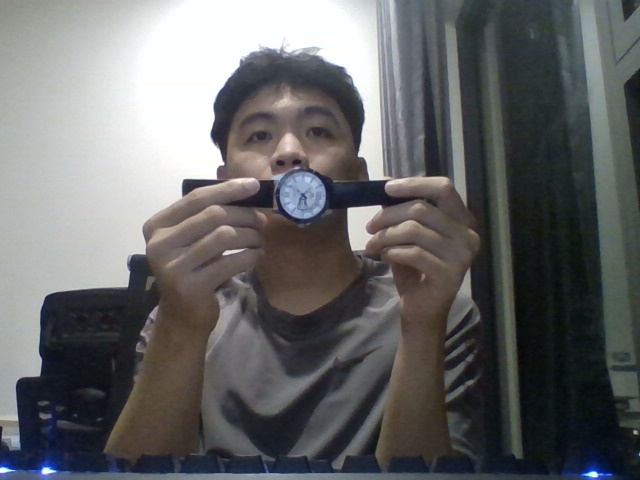watch: (170, 165, 421, 228)
